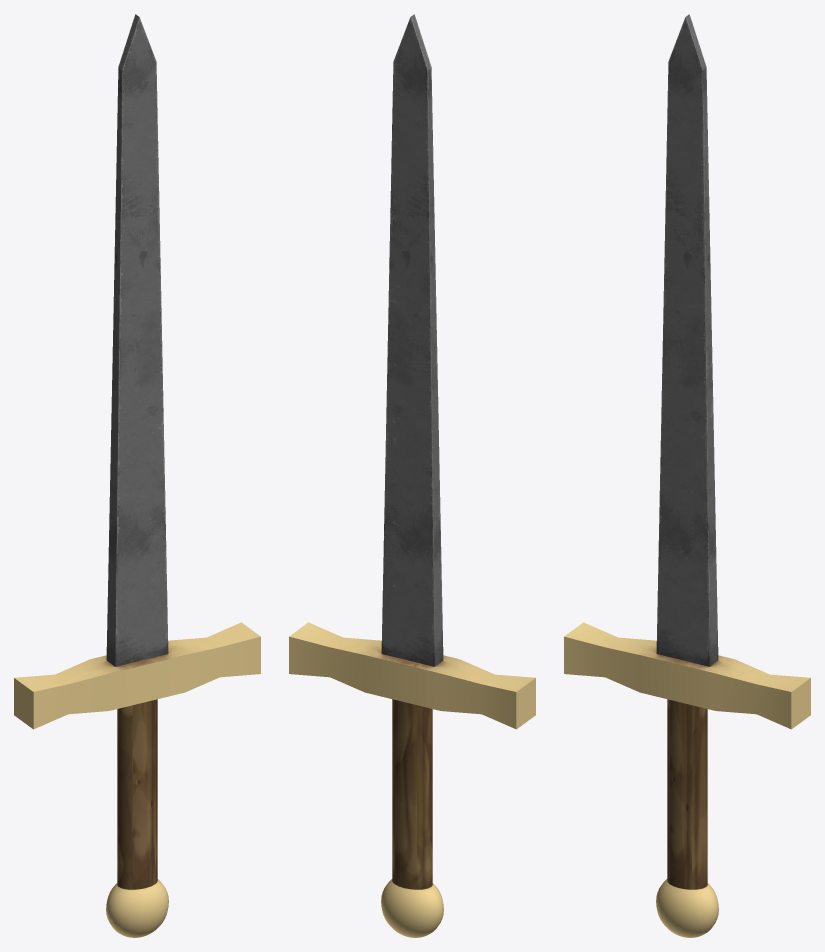
File: LP_Sword.fbx
3 views of the same model, side by side, from view 1: azimuth 30°, elevation 25°; view 2: azimuth 150°, elevation 25°; view 3: azimuth 330°, elevation 25° (orthographic).
Visible parts, largest first — view 1: pCube3; view 2: pCube3; view 3: pCube3.
Boxes of the visible parts, x1=… form: pCube3: x1=14, y1=14, x2=260, y2=937; pCube3: x1=289, y1=14, x2=535, y2=937; pCube3: x1=564, y1=14, x2=810, y2=937.
Bounding box in the file's own units: 57.47 × 222 × 10.82.
1 material, 1 textured.
